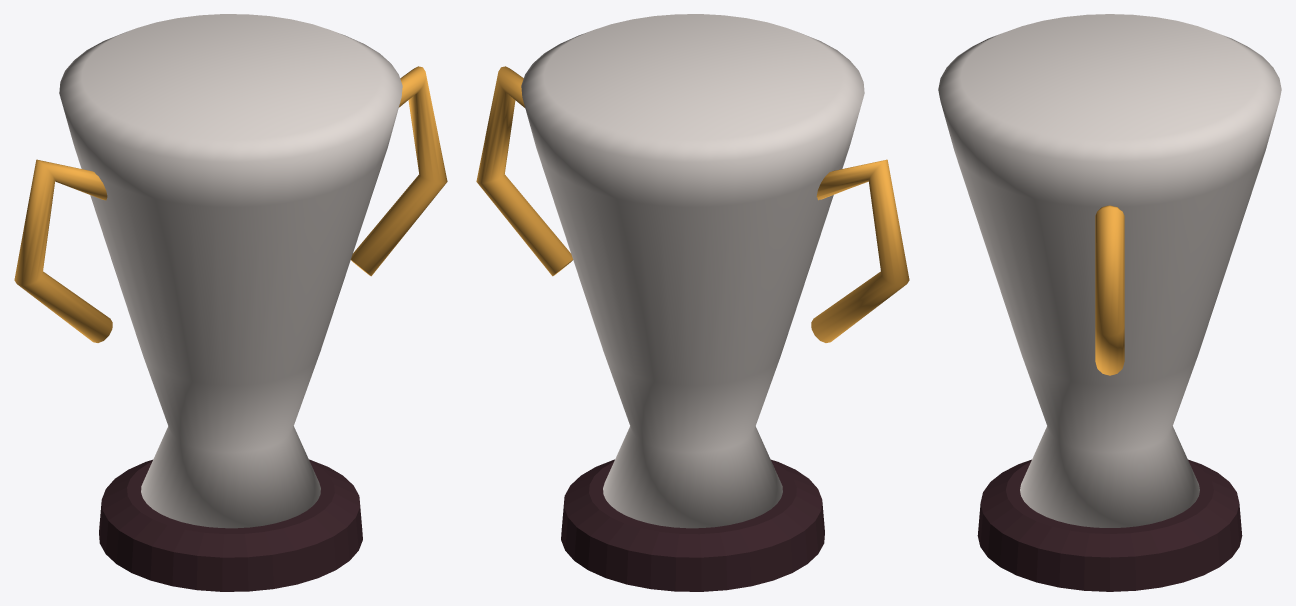
The model's file is gunners-cup-winners.glb.
3 renders of one model, left to right at view 1: azimuth 30°, elevation 25°; view 2: azimuth 150°, elevation 25°; view 3: azimuth 270°, elevation 25°, orthographic.
Visible parts, largest first — view 1: gunners-cup-winners · Chased silver, gunners-cup-winners · Ebonized wood, gunners-cup-winners · Gilt; view 2: gunners-cup-winners · Chased silver, gunners-cup-winners · Ebonized wood, gunners-cup-winners · Gilt; view 3: gunners-cup-winners · Chased silver, gunners-cup-winners · Ebonized wood, gunners-cup-winners · Gilt.
Boxes of the visible parts, left/top/right/bottom form: gunners-cup-winners · Chased silver: left=59, top=14, right=402, bottom=528; gunners-cup-winners · Ebonized wood: left=99, top=459, right=362, bottom=591; gunners-cup-winners · Gilt: left=14, top=66, right=447, bottom=342; gunners-cup-winners · Chased silver: left=521, top=14, right=864, bottom=528; gunners-cup-winners · Ebonized wood: left=561, top=459, right=824, bottom=591; gunners-cup-winners · Gilt: left=476, top=66, right=909, bottom=342; gunners-cup-winners · Chased silver: left=938, top=14, right=1281, bottom=527; gunners-cup-winners · Ebonized wood: left=977, top=459, right=1242, bottom=591; gunners-cup-winners · Gilt: left=1095, top=205, right=1124, bottom=375.
Bounding box in the file's own units: 1.76 × 1.8 × 1.22.
